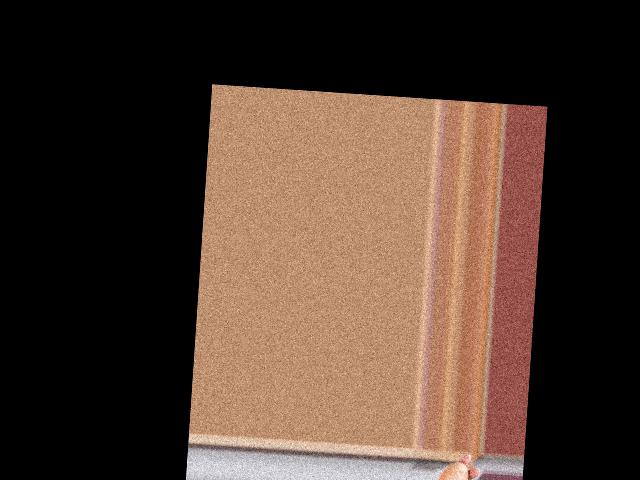egg: (437, 461, 470, 480)
